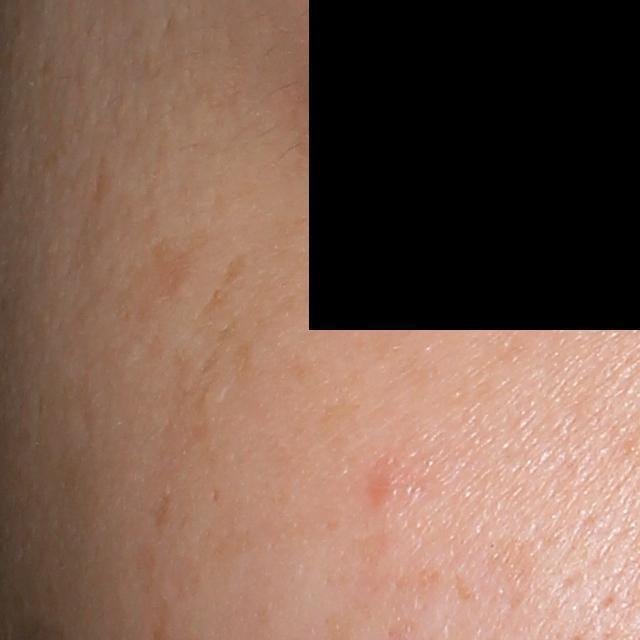melasma: (180, 320, 257, 424), (274, 244, 375, 317), (143, 228, 214, 311), (197, 247, 253, 318)
